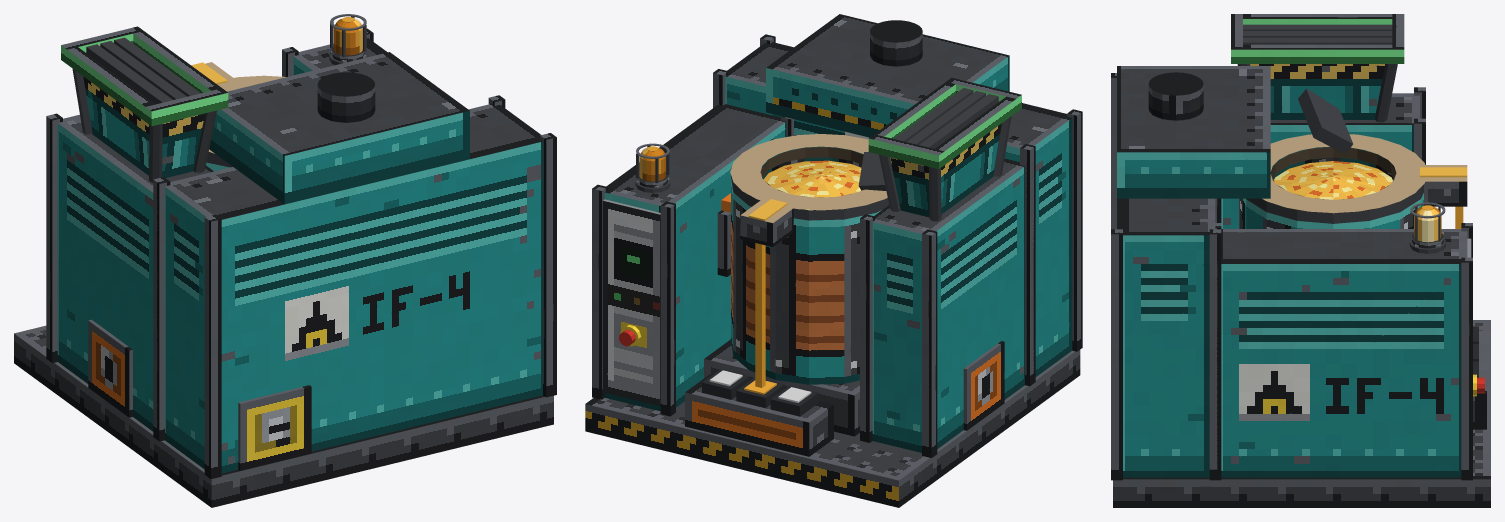
Rendered from induction_furnace.glb.
The picture shows the model from 3 angles, left to right: view 1: azimuth 30°, elevation 25°; view 2: azimuth 150°, elevation 25°; view 3: azimuth 270°, elevation 25°; orthographic projection. The views are drawn at different scales.
Visible parts, largest first — view 1: body, body_glow; view 2: body, shape_0_glow, shape_14, body_tint_ingot, body_glow; view 3: body, shape_0_glow, part_0_glow, shape_7.
Boxes of the visible parts, left/top/right/bottom form: body: left=14, top=14, right=556, bottom=507; body_glow: left=334, top=19, right=359, bottom=55; body: left=585, top=14, right=1082, bottom=507; shape_0_glow: left=763, top=160, right=861, bottom=210; shape_14: left=755, top=243, right=765, bottom=387; body_tint_ingot: left=709, top=370, right=811, bottom=402; body_glow: left=642, top=148, right=665, bottom=181; body: left=1111, top=14, right=1490, bottom=507; shape_0_glow: left=1274, top=161, right=1392, bottom=213; part_0_glow: left=1414, top=209, right=1440, bottom=242; shape_7: left=1420, top=167, right=1467, bottom=177.
Size of what is drawn, in the model's own units: 3.03 by 3 by 3.02.
Materials: 1 (1 with a texture image).
